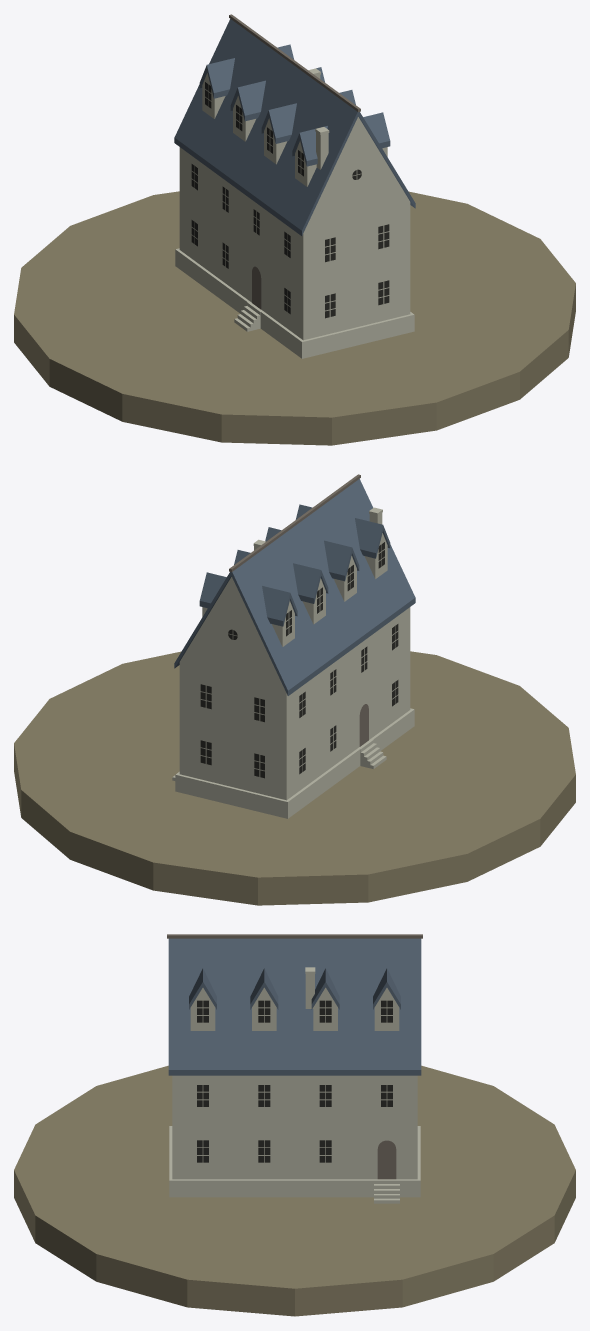
File: house_1.obj
3 views of the same model, one above another, from view 1: azimuth 30°, elevation 25°; view 2: azimuth 150°, elevation 25°; view 3: azimuth 270°, elevation 25° (orthographic).
Size of the model in its own units: 9.16 by 4.72 by 9.16.
